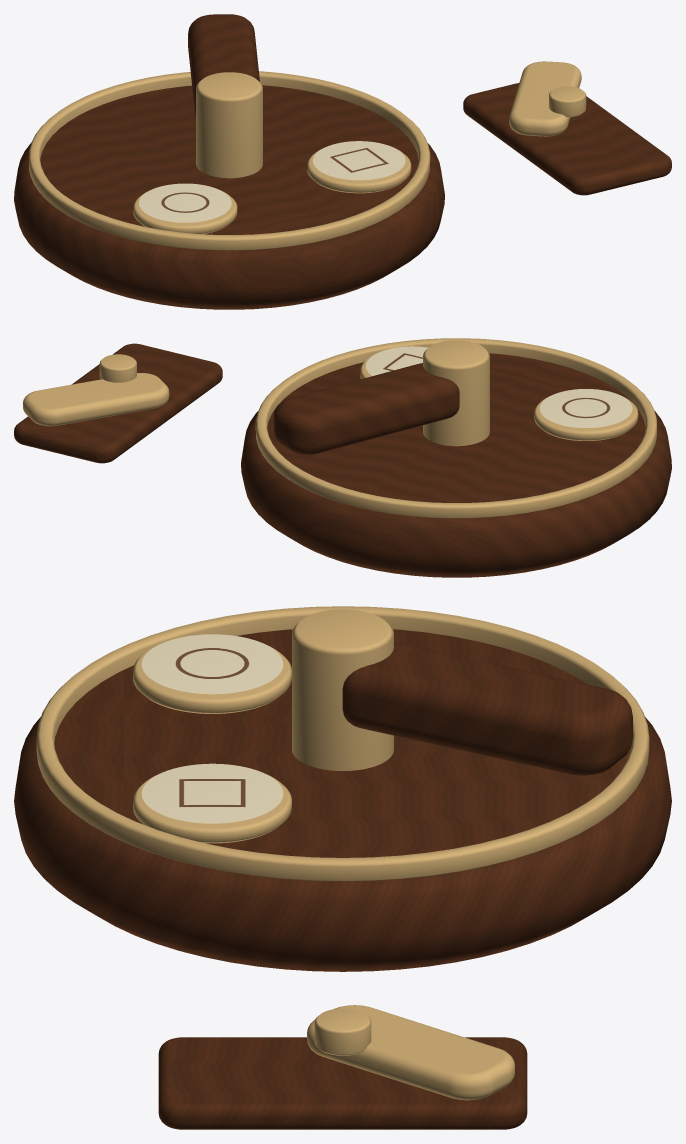
Rendered from cargo_art_04_route_selector.glb.
3 views of the same model, one above another, from view 1: azimuth 30°, elevation 25°; view 2: azimuth 150°, elevation 25°; view 3: azimuth 270°, elevation 25° (orthographic). The views are drawn at different scales.
Parts seen in each view (by area): view 1: round_wood, brass_perimeter, pointer_base, pivot, wood_handle, pointer_leaf, square_badge, circle_badge, square_rim, circle_rim, pointer_pin; view 2: round_wood, brass_perimeter, wood_handle, pointer_base, pivot, pointer_leaf, circle_badge, circle_rim, square_badge, pointer_pin; view 3: round_wood, brass_perimeter, pointer_base, wood_handle, pivot, pointer_leaf, square_badge, circle_badge, circle_rim, square_rim, pointer_pin.
Boxes of the visible parts, left/top/right/bottom form: round_wood: left=14, top=85, right=444, bottom=309; brass_perimeter: left=29, top=71, right=430, bottom=250; pointer_base: left=463, top=83, right=671, bottom=195; pivot: left=196, top=72, right=262, bottom=178; wood_handle: left=188, top=14, right=259, bottom=117; pointer_leaf: left=509, top=61, right=581, bottom=136; square_badge: left=312, top=141, right=405, bottom=180; circle_badge: left=139, top=183, right=231, bottom=222; square_rim: left=307, top=148, right=411, bottom=193; circle_rim: left=133, top=190, right=237, bottom=234; pointer_pin: left=549, top=86, right=586, bottom=117; round_wood: left=241, top=353, right=671, bottom=577; brass_perimeter: left=255, top=338, right=656, bottom=518; wood_handle: left=274, top=363, right=459, bottom=454; pointer_base: left=14, top=343, right=222, bottom=463; pivot: left=423, top=340, right=489, bottom=446; pointer_leaf: left=23, top=373, right=169, bottom=426; circle_badge: left=539, top=389, right=632, bottom=427; circle_rim: left=534, top=396, right=638, bottom=440; square_badge: left=366, top=346, right=428, bottom=375; pointer_pin: left=99, top=354, right=136, bottom=382; round_wood: left=14, top=629, right=671, bottom=971; brass_perimeter: left=36, top=606, right=649, bottom=881; pointer_base: left=158, top=1037, right=527, bottom=1129; wood_handle: left=342, top=642, right=632, bottom=775; pivot: left=292, top=609, right=393, bottom=770; pointer_leaf: left=307, top=1005, right=514, bottom=1100; square_badge: left=141, top=763, right=283, bottom=823; circle_badge: left=141, top=634, right=283, bottom=694; circle_rim: left=133, top=645, right=291, bottom=713; square_rim: left=133, top=774, right=291, bottom=843; pointer_pin: left=314, top=1008, right=371, bottom=1055.
Size of the model in its own units: 0.1791 by 0.0425 by 0.116.
Materials: 4 (3 with a texture image).
